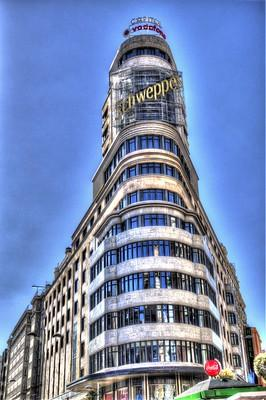building: (86, 14, 208, 400)
